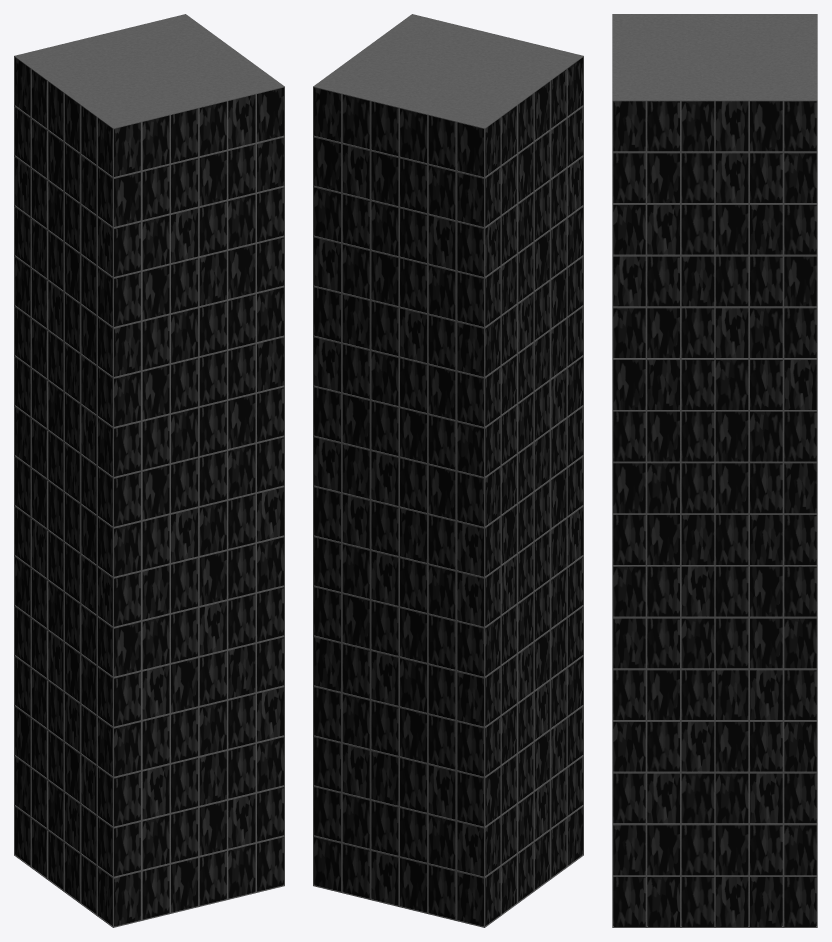
The model's file is B_Skyscraper_001.fbx.
The picture shows the model from 3 angles, left to right: view 1: azimuth 30°, elevation 25°; view 2: azimuth 150°, elevation 25°; view 3: azimuth 270°, elevation 25°; orthographic projection. The views are drawn at different scales.
Parts seen in each view (by area): view 1: Cube; view 2: Cube; view 3: Cube.
Part boxes in pixels (x1,y1,x2,y2): Cube: (14,14,284,927); Cube: (313,14,583,927); Cube: (612,14,817,927).
Size of the model in its own units: 1500 by 6673 by 1500.
1 material, 1 textured.
